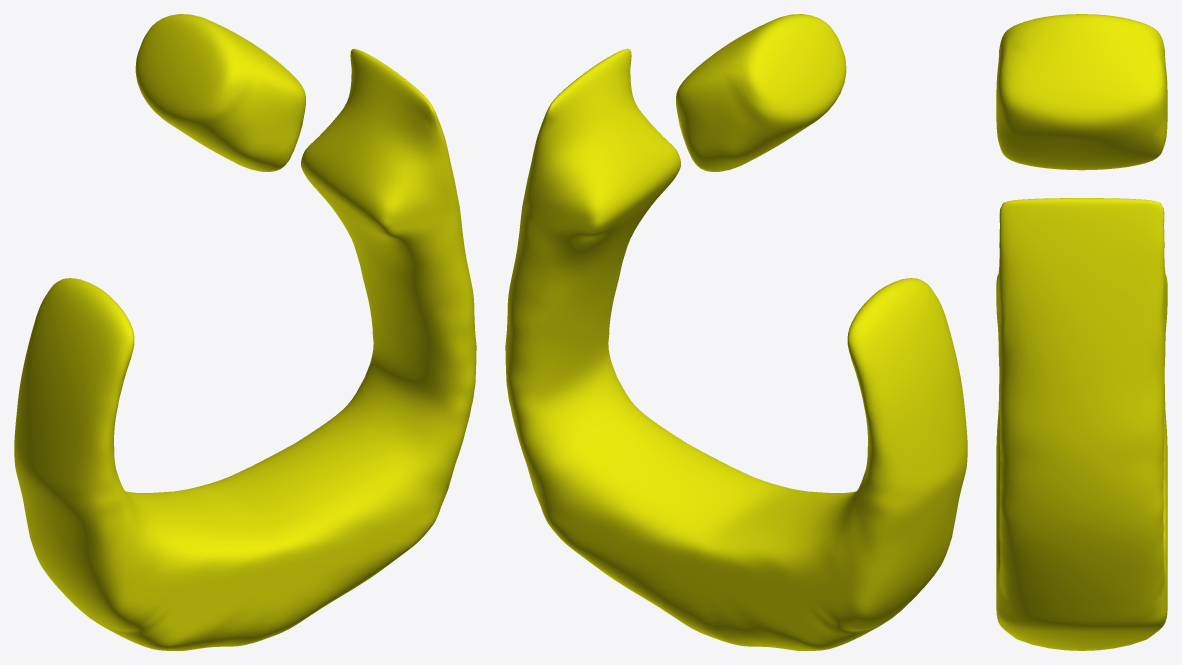
The picture shows the model from 3 angles, left to right: view 1: azimuth 30°, elevation 25°; view 2: azimuth 150°, elevation 25°; view 3: azimuth 270°, elevation 25°; orthographic projection.
Parts seen in each view (by area): view 1: char_1; view 2: char_1; view 3: char_1.
Boxes of the visible parts, left/top/right/bottom form: char_1: left=14, top=14, right=476, bottom=650; char_1: left=505, top=14, right=967, bottom=650; char_1: left=996, top=14, right=1167, bottom=650.
Bounding box in the file's own units: 4.49 × 6.3 × 1.6.
